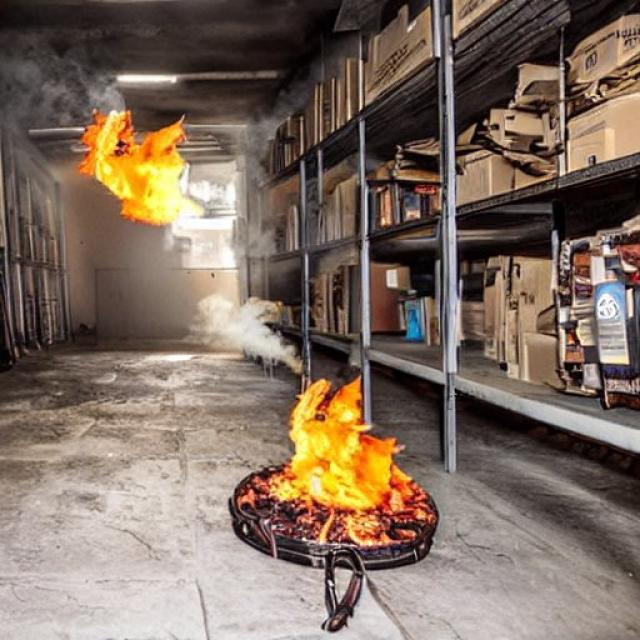Fire: (258, 372, 424, 554), (81, 112, 192, 235)
Smoke: (187, 100, 299, 371), (4, 22, 104, 134)
